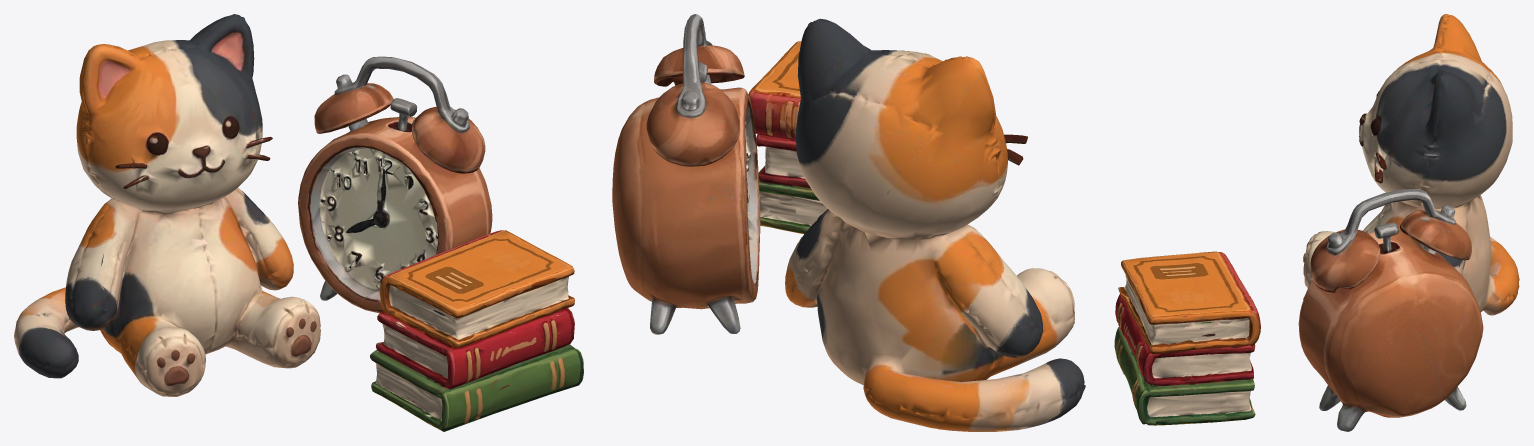
Rendered from plush_clock.glb.
The picture shows the model from 3 angles, left to right: view 1: azimuth 30°, elevation 25°; view 2: azimuth 150°, elevation 25°; view 3: azimuth 270°, elevation 25°; orthographic projection. The views are drawn at different scales.
Size of the model in its own units: 1.9 by 1.29 by 1.72.
1 material, 1 textured.
